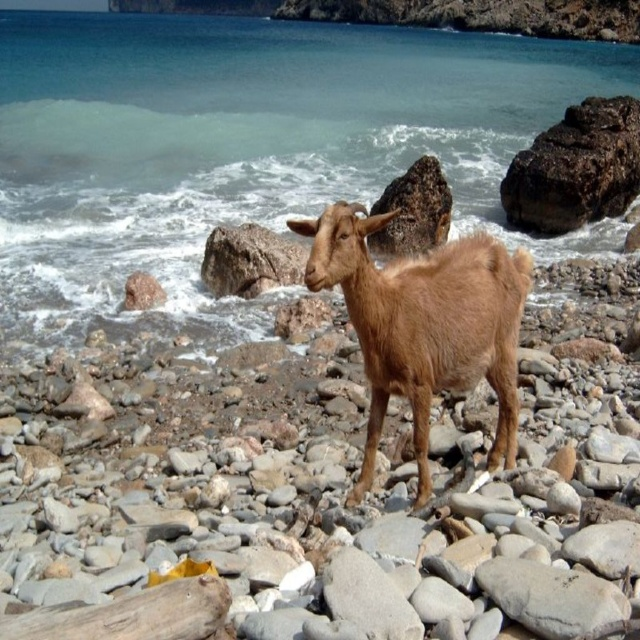Goat: (285, 199, 537, 509)
